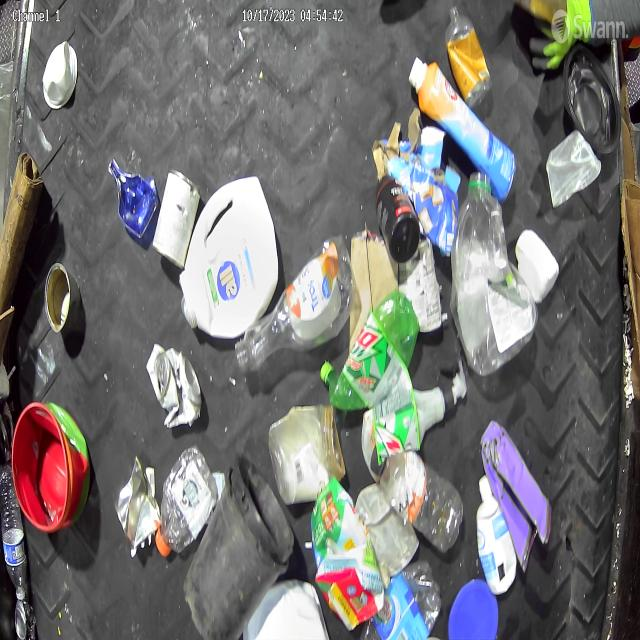can: (148, 345, 202, 427), (44, 260, 72, 332)
milk_jug: (180, 178, 280, 337)
non_white_jug: (14, 398, 90, 534)
plastic_bottle: (454, 174, 540, 373), (232, 244, 350, 371), (377, 450, 464, 552), (154, 444, 215, 560), (357, 560, 441, 640), (445, 5, 493, 113), (1, 463, 30, 611)
